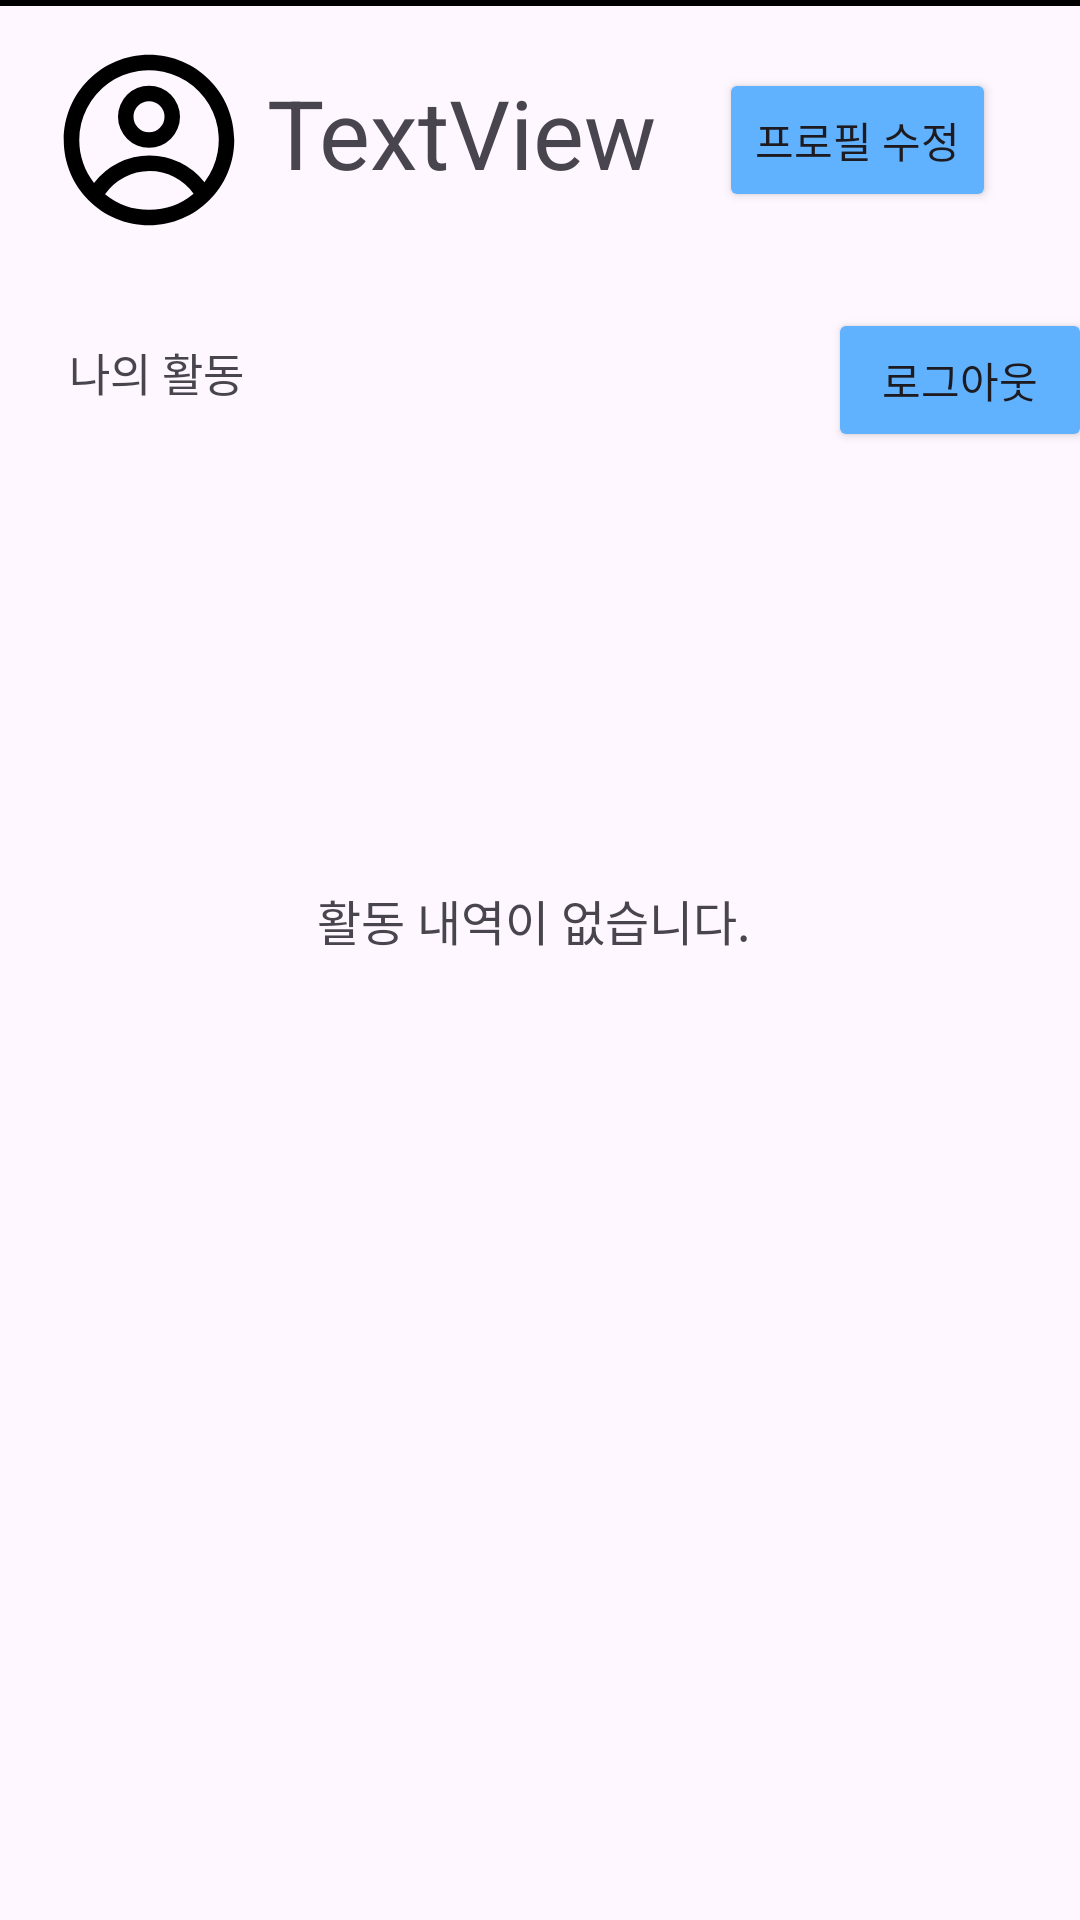

Icons on this 1080w x 1920h Android screen, each with its box as (x1, y1, x2, y2):
profile: (63, 54, 235, 226)
